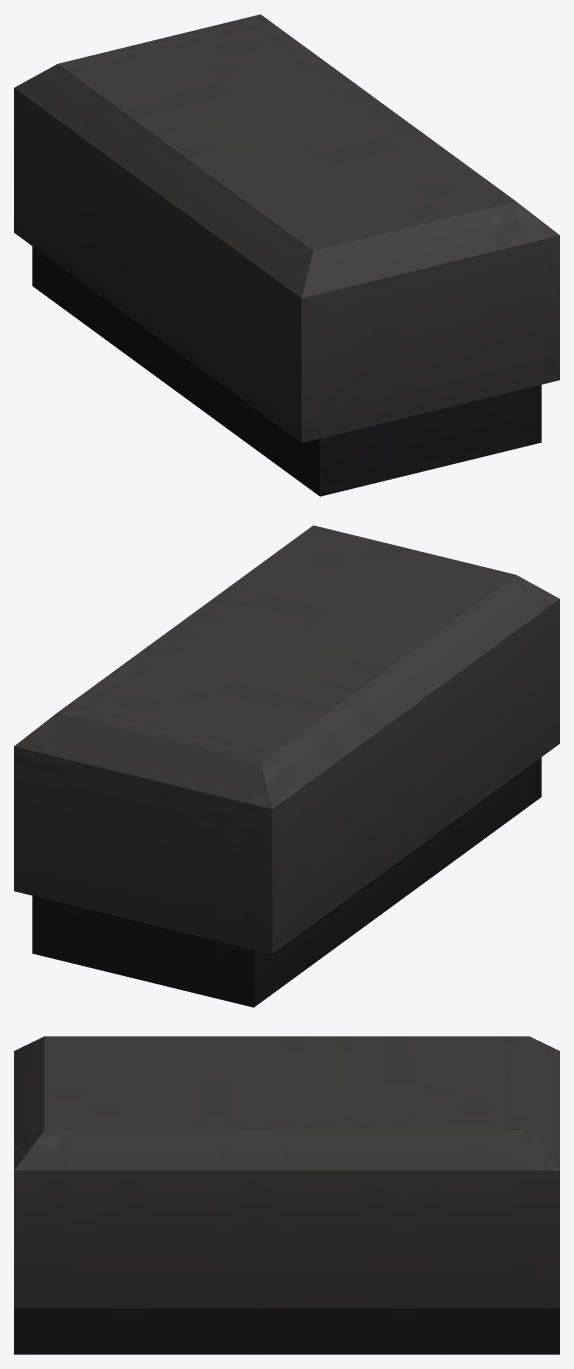
File: cargo-wagon.glb
3 views of the same model, one above another, from view 1: azimuth 30°, elevation 25°; view 2: azimuth 150°, elevation 25°; view 3: azimuth 270°, elevation 25° (orthographic). The views are drawn at different scales.
Visible parts, largest first — view 1: cargo-wagon; view 2: cargo-wagon; view 3: cargo-wagon.
Part boxes in pixels (x1,y1,x2,y2): cargo-wagon: (14, 14, 559, 496); cargo-wagon: (14, 525, 559, 1007); cargo-wagon: (14, 1036, 559, 1354).
Size of the model in its own units: 0.14 by 0.12 by 0.27.
1 material, 1 textured.
